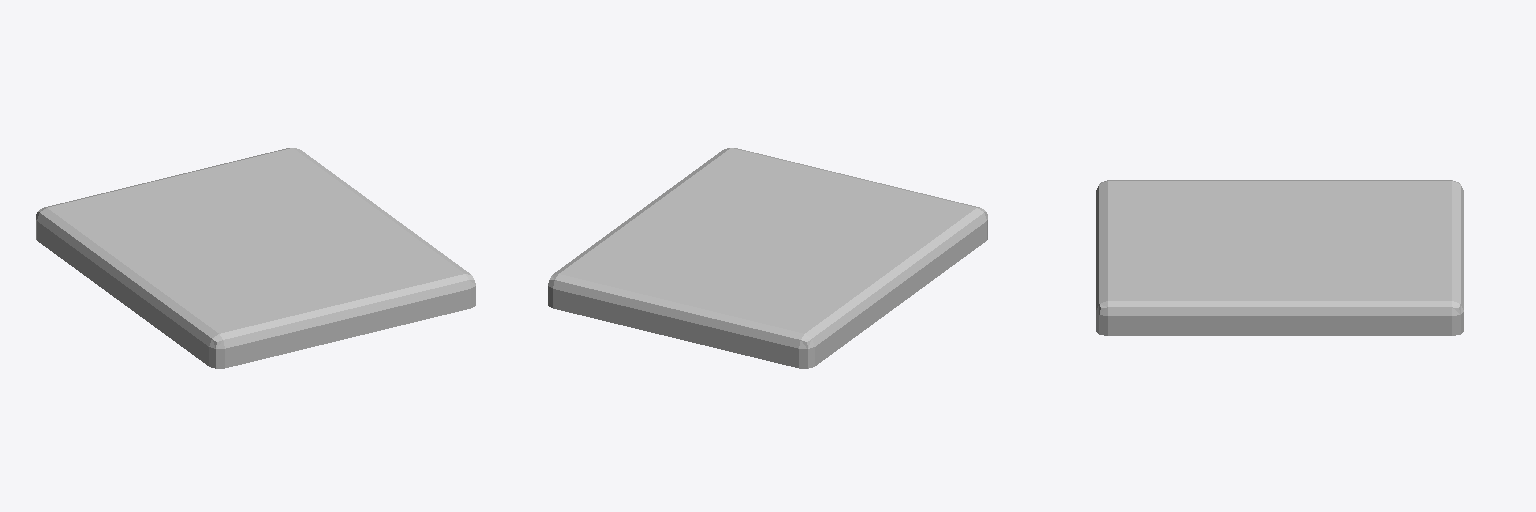
Rendered from mattress_1.obj.
3 renders of one model, left to right at view 1: azimuth 30°, elevation 25°; view 2: azimuth 150°, elevation 25°; view 3: azimuth 270°, elevation 25°, orthographic.
Size of the model in its own units: 20.25 by 2.21 by 24.25.